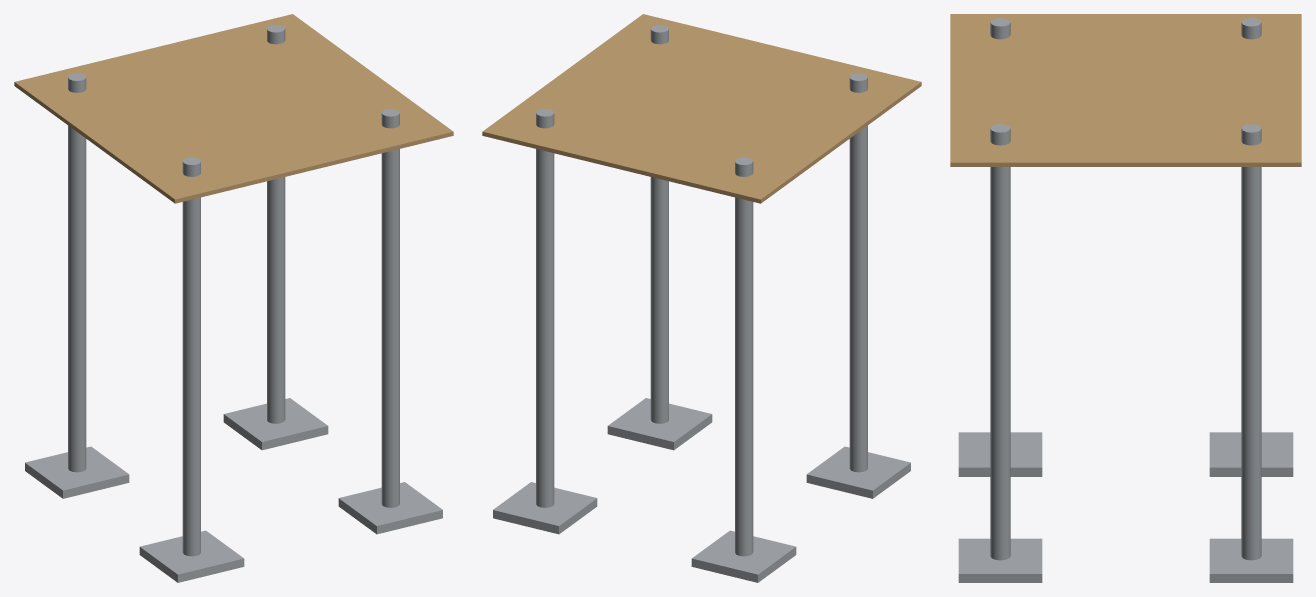
Rendered from structure.connection.holding_down.glb.
3 views of the same model, side by side, from view 1: azimuth 30°, elevation 25°; view 2: azimuth 150°, elevation 25°; view 3: azimuth 270°, elevation 25° (orthographic). The views are drawn at different scales.
Visible parts, largest first — view 1: main__plywood, main__steel_galvanised; view 2: main__plywood, main__steel_galvanised; view 3: main__plywood, main__steel_galvanised.
Boxes of the visible parts, box(x1,y1,x2,y2) form: main__plywood: box(14, 14, 453, 203); main__steel_galvanised: box(25, 25, 442, 582); main__plywood: box(482, 14, 921, 203); main__steel_galvanised: box(493, 25, 910, 582); main__plywood: box(950, 14, 1301, 166); main__steel_galvanised: box(958, 18, 1293, 582).
Size of the model in its own units: 0.42 by 0.576 by 0.42.
